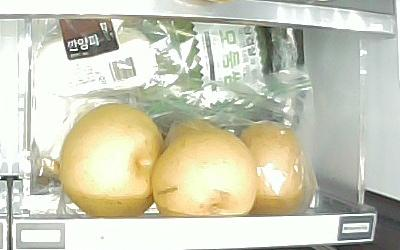pear: (57, 101, 166, 218), (151, 124, 257, 217)
pear_vinyl: (240, 120, 313, 216)
